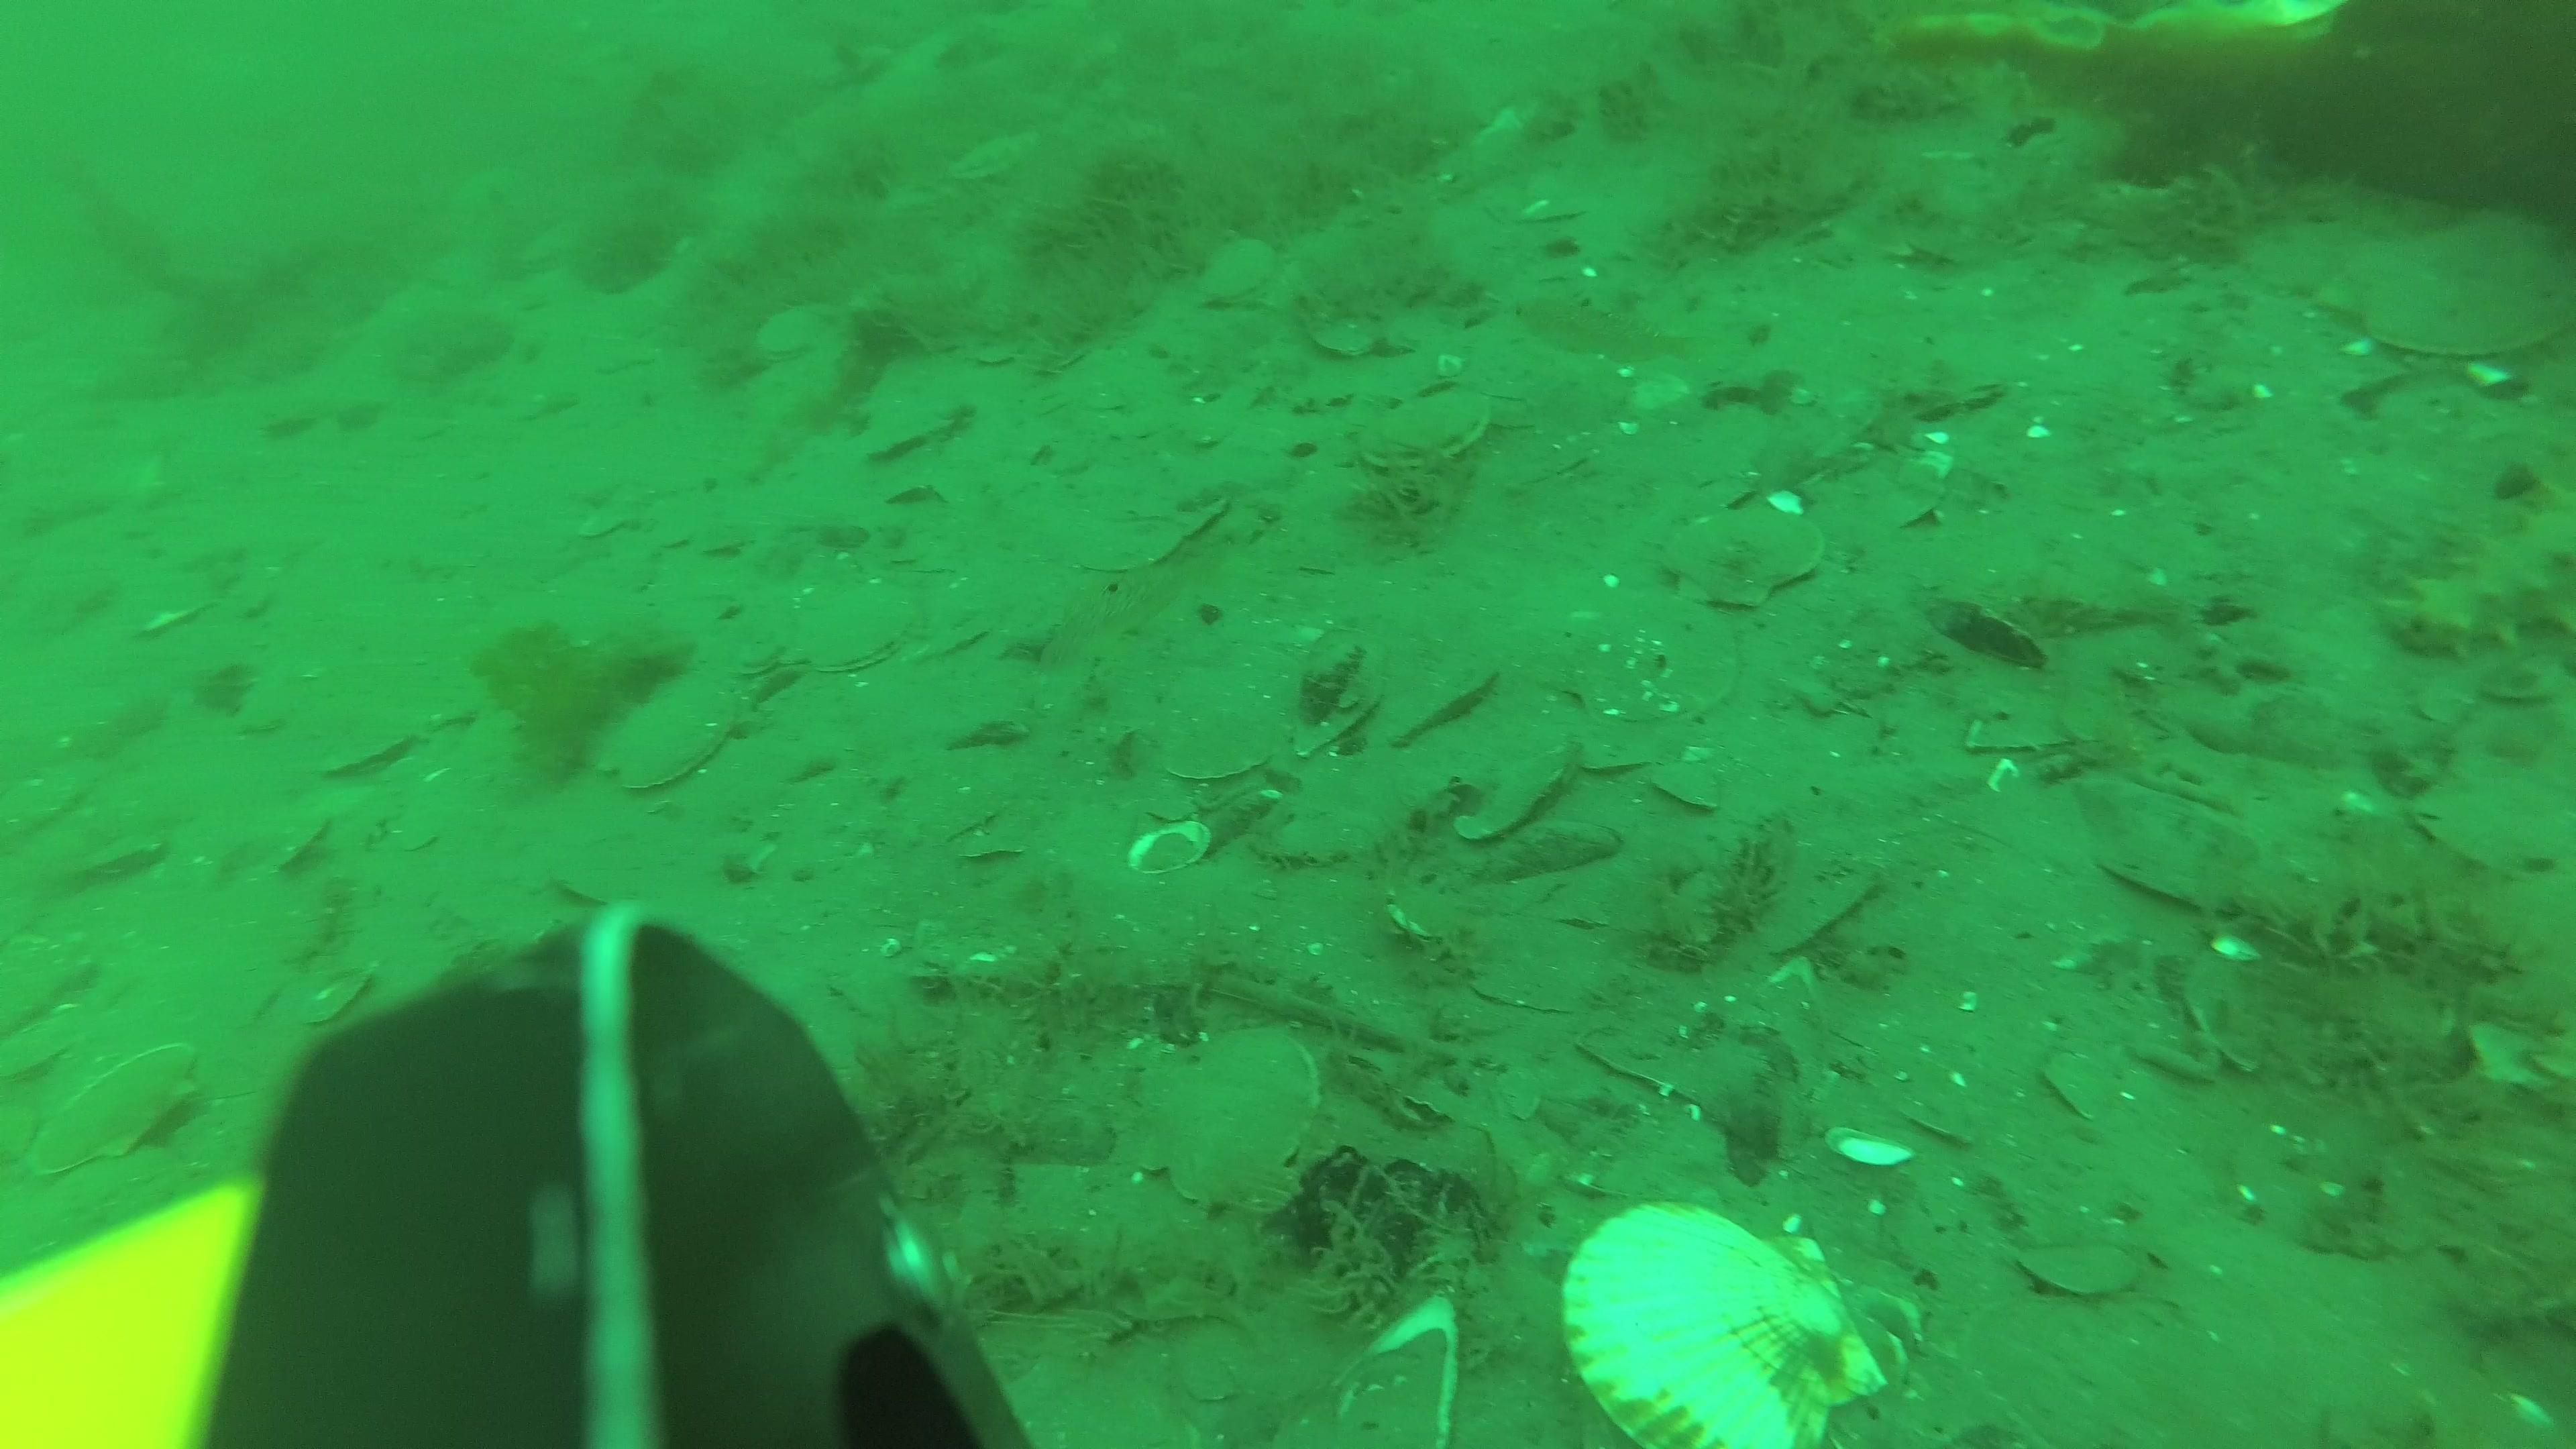scallop: (1555, 1191, 1886, 1449), (1513, 545, 1753, 731), (2309, 218, 2576, 384), (1132, 1031, 1320, 1207), (25, 1039, 216, 1184), (2408, 732, 2576, 879), (1426, 731, 1587, 860), (598, 674, 761, 798), (1667, 508, 1819, 616), (1355, 380, 1504, 488), (1368, 653, 1495, 752), (1164, 690, 1286, 789), (2006, 1237, 2157, 1316), (809, 582, 927, 679), (1200, 235, 1277, 306), (1651, 759, 1729, 817), (1560, 727, 1644, 777), (757, 301, 824, 357)
